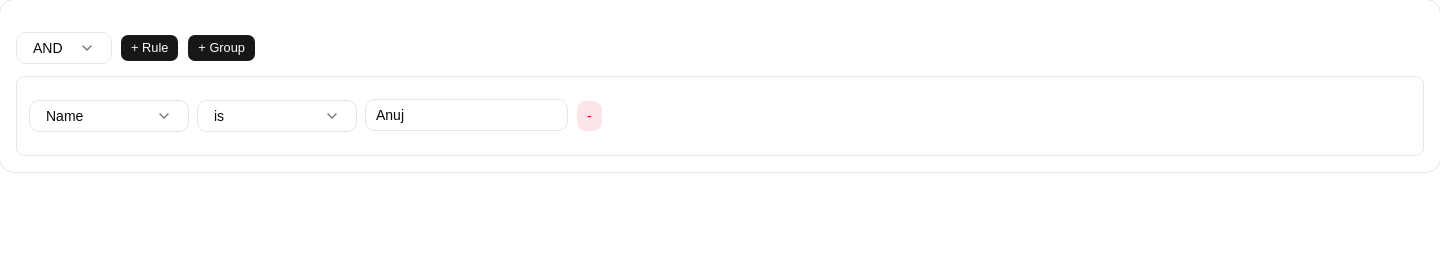
Scenario: Group tests for behaviour › adds a rule when + Rule clicked
The width and height of the screenshot is (1440, 278).
Click the button "+ Rule".
click(150, 48)  # box [120,34,179,62]
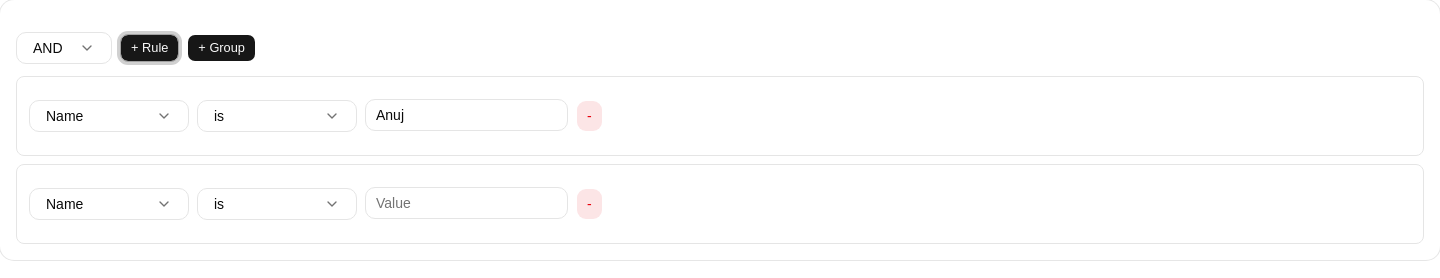
Expected: the number of fields with placeholder "Value" is 2, [365,99,568,131]; [365,187,568,219]
